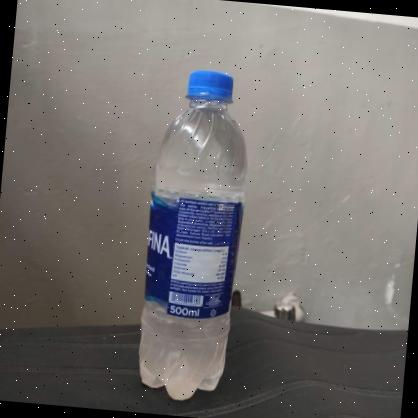bottle: (130, 64, 262, 398)
cap: (184, 66, 238, 110)
label: (142, 198, 244, 325)
